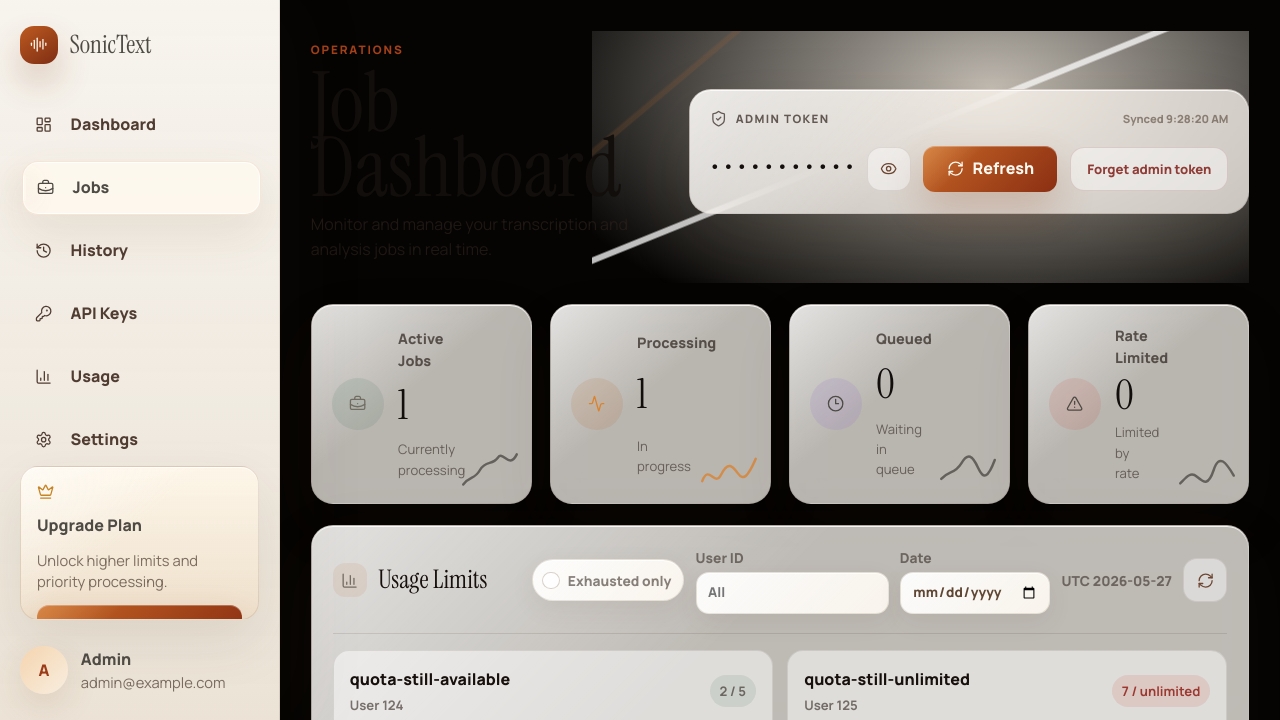
Test: AdminJobsDashboard › shows an exhausted-only empty state when no limited users are exhausted
Click the checkbox labelled "Exhausted only". click: coordinates (551, 580)
box: [542,572,560,589]
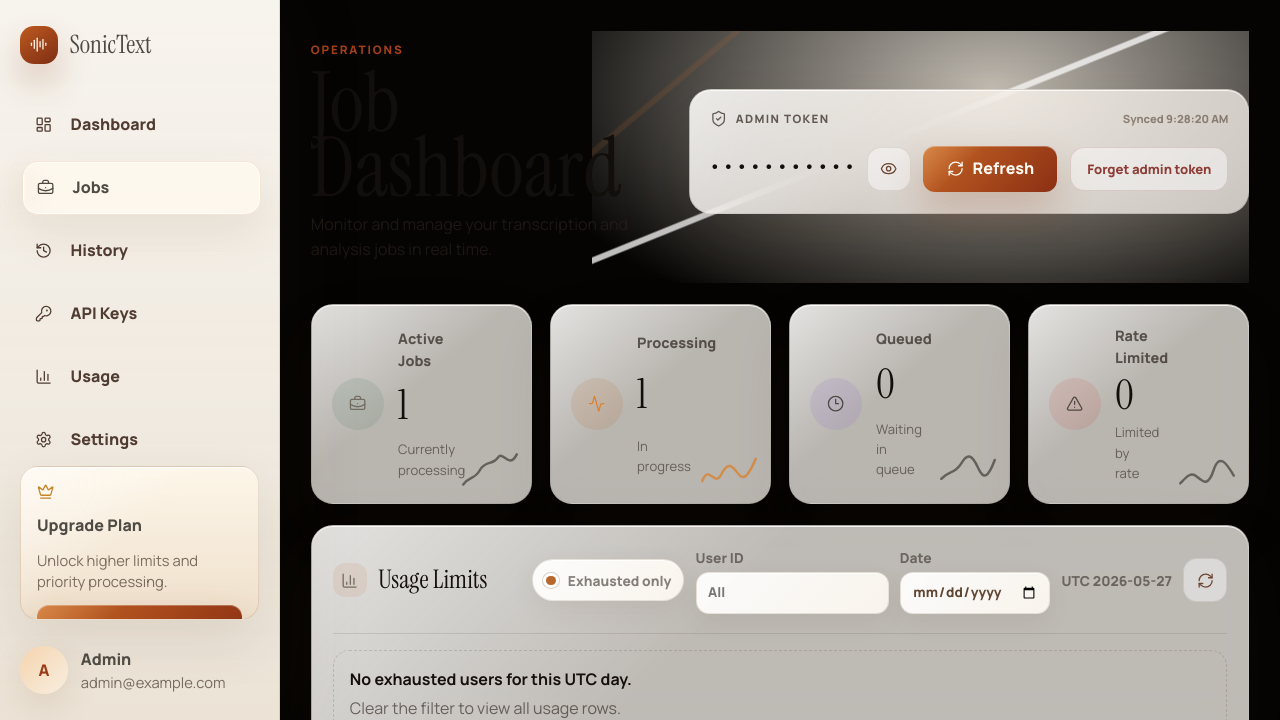
Expected: the text "No exhausted users for this UTC day." is shown, [350,668,632,690]
Expected: the text "quota-still-available" is gone
Expected: the text "quota-still-unlimited" is gone
